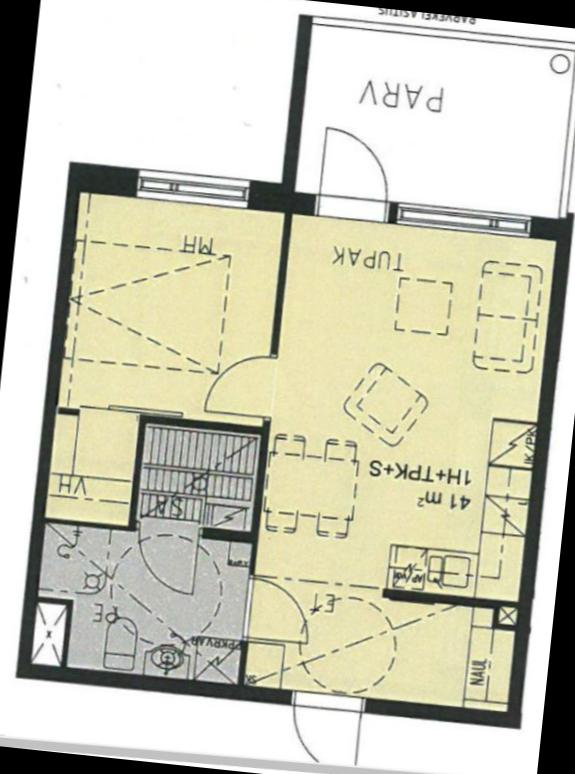door: (311, 122, 405, 224), (196, 346, 282, 426), (124, 516, 206, 598), (239, 574, 315, 650)
window: (127, 163, 260, 213), (392, 199, 534, 243)
